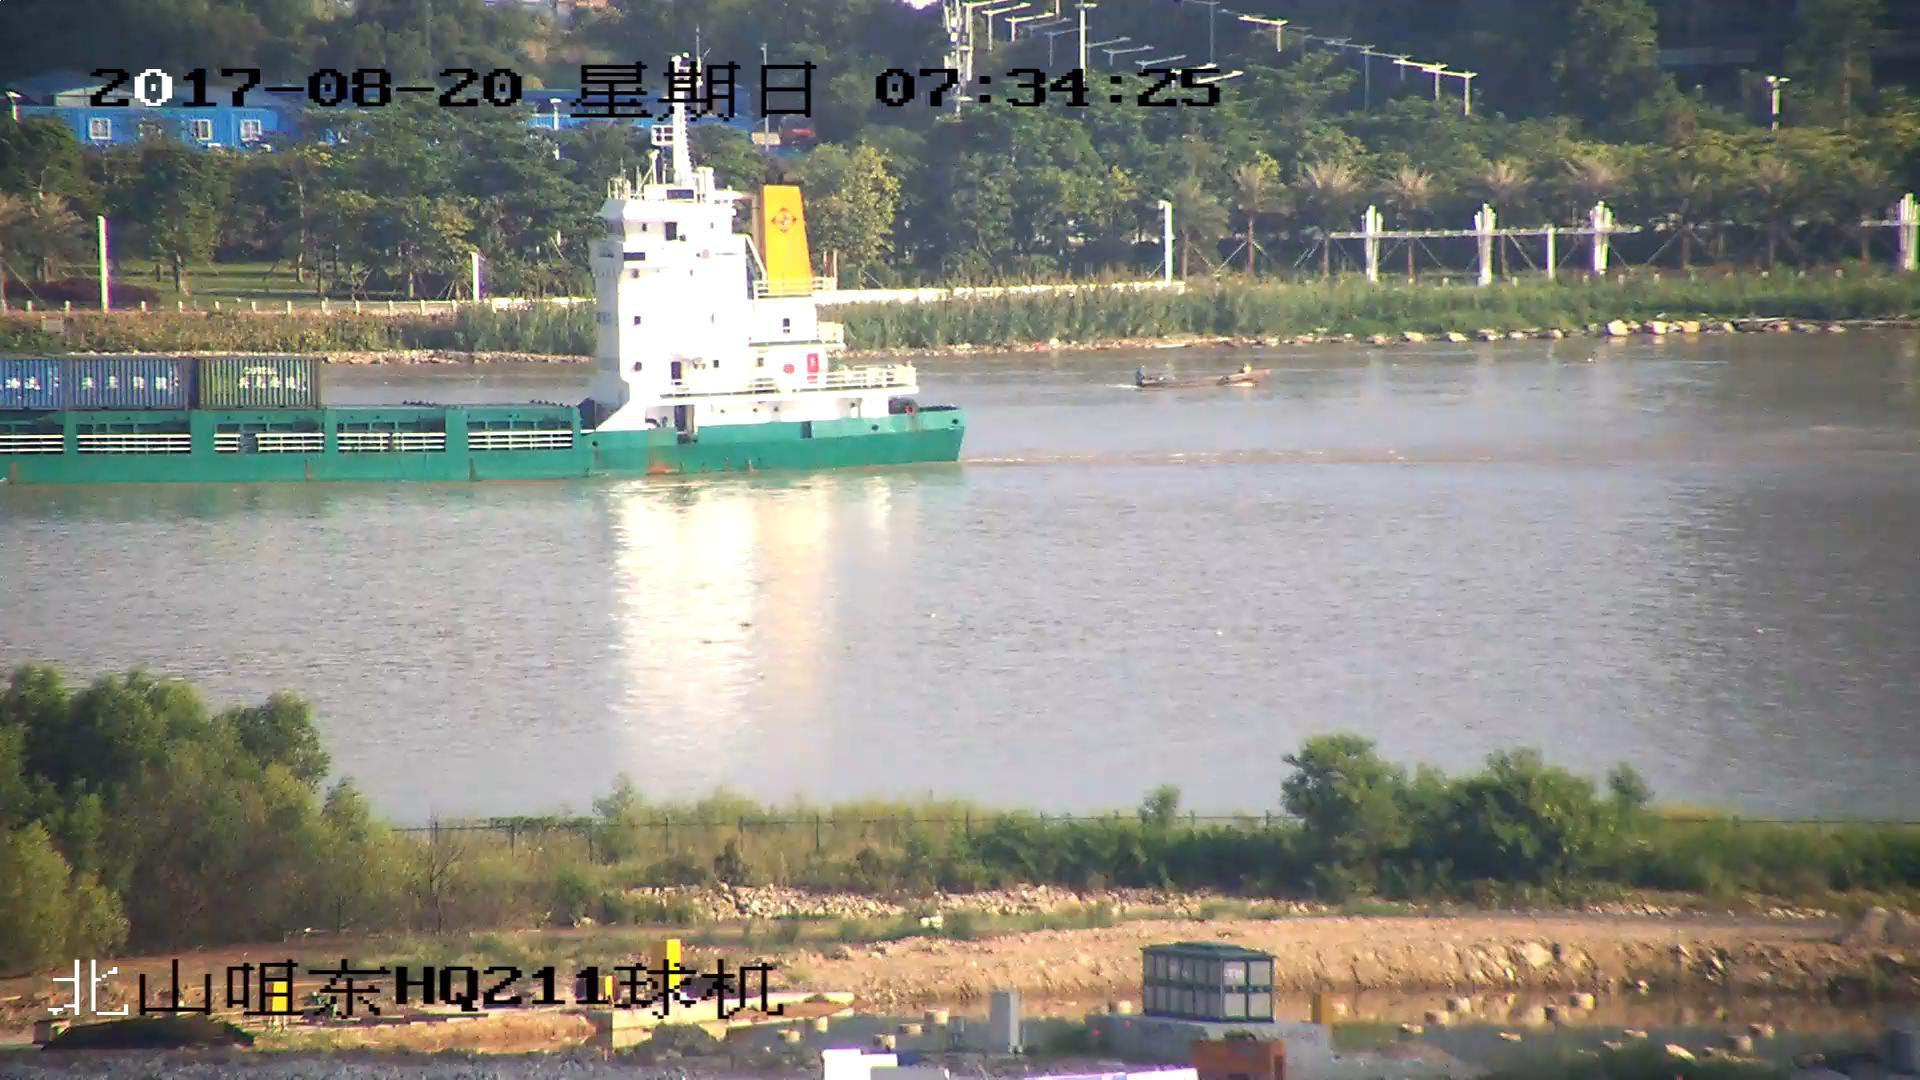Ship: (3, 111, 965, 483), (1134, 363, 1273, 396)
